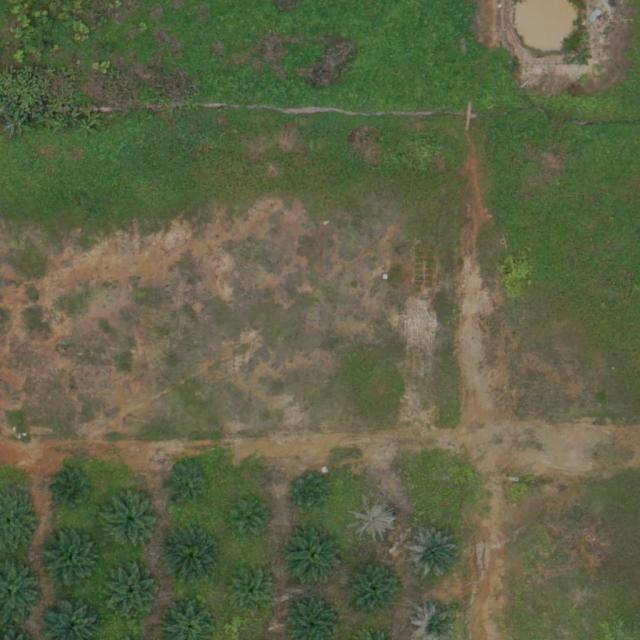Dead: (406, 528, 461, 583), (350, 497, 397, 544)
Healthy: (40, 529, 103, 592), (101, 490, 163, 553), (345, 560, 408, 622), (284, 526, 346, 588), (106, 567, 161, 623), (165, 532, 220, 587)
Small: (229, 571, 276, 618), (169, 467, 209, 506), (230, 496, 269, 535), (290, 472, 329, 511), (55, 468, 94, 507)
